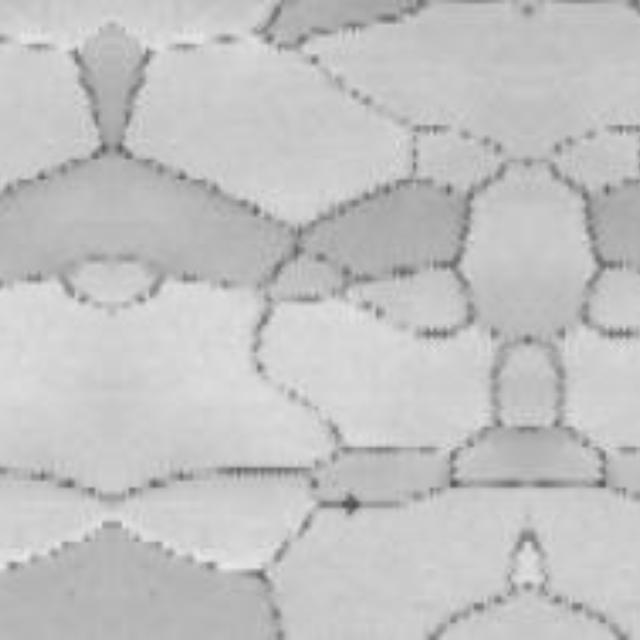good_void: (345, 490, 362, 514)
